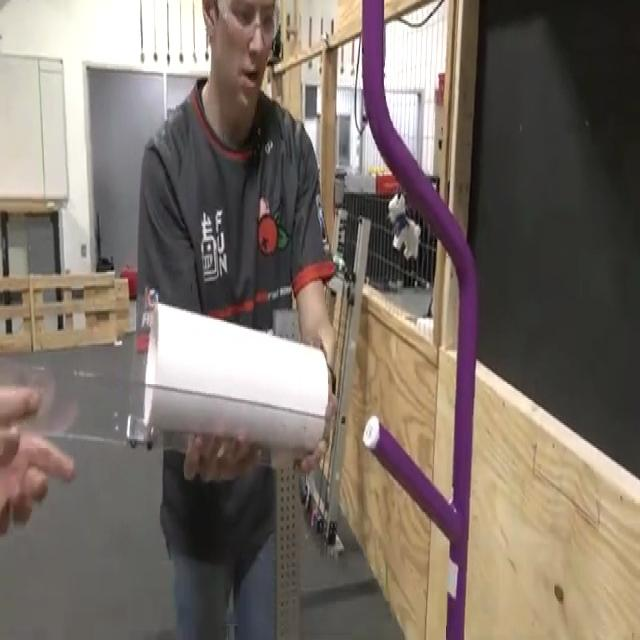Coral: (139, 297, 330, 455)
